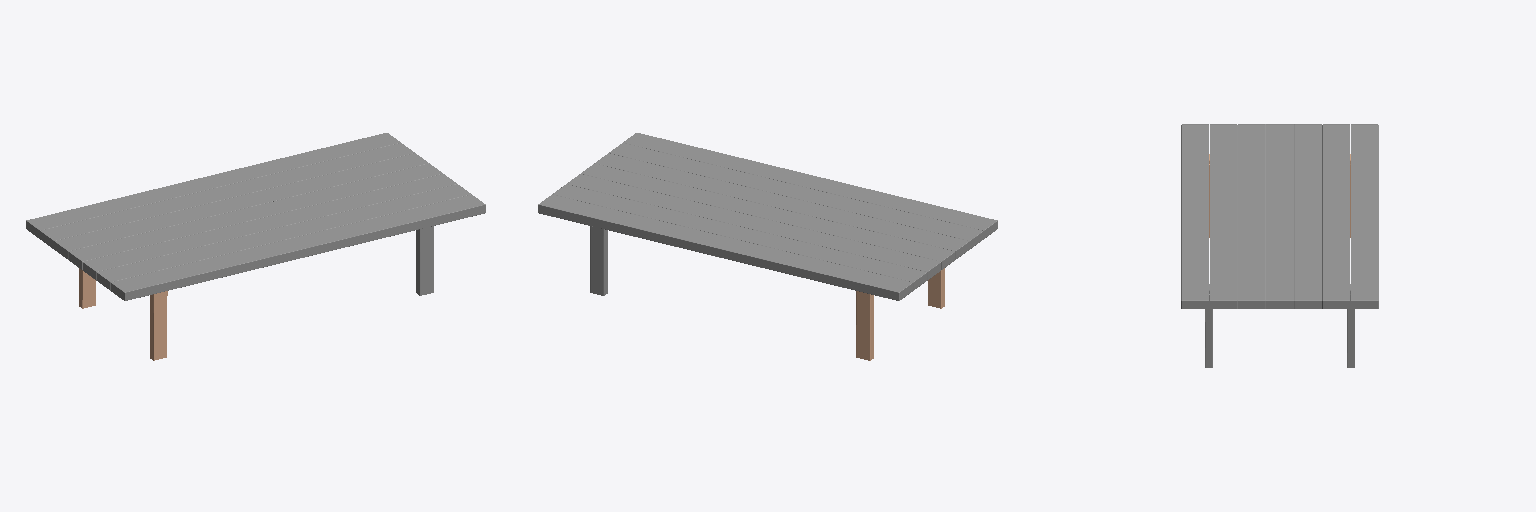
The model's file is table.obj.
The picture shows the model from 3 angles: view 1: azimuth 30°, elevation 25°; view 2: azimuth 150°, elevation 25°; view 3: azimuth 270°, elevation 25°; orthographic projection.
Parts seen in each view (by area): view 1: Plane005, Line024, Line017; view 2: Plane005, Line024, Line017; view 3: Plane005, Line017.
Boxes of the visible parts, x1,y1,x2,y2 form: Plane005: [26, 133, 485, 300]; Line024: [79, 268, 167, 360]; Line017: [416, 226, 433, 295]; Plane005: [538, 133, 997, 300]; Line024: [856, 268, 944, 360]; Line017: [590, 226, 607, 295]; Plane005: [1181, 124, 1378, 308]; Line017: [1205, 284, 1354, 367].
Size of the model in its own units: 9.09 by 2.09 by 4.3.